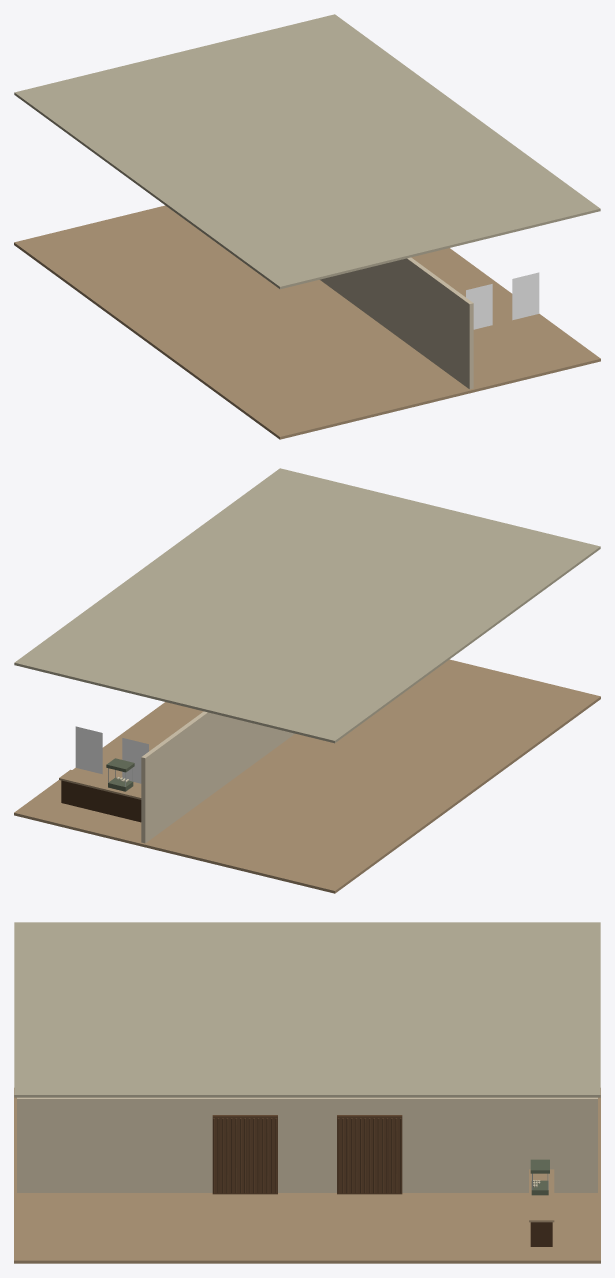
File: SM_Town_Cinema_Interior_LOD1.fbx
The picture shows the model from 3 angles, top to bottom: view 1: azimuth 30°, elevation 25°; view 2: azimuth 150°, elevation 25°; view 3: azimuth 270°, elevation 25°; orthographic projection. The views are drawn at different scales.
Visible parts, largest first — view 1: SM_Town_Cinema_Interior_LOD1; view 2: SM_Town_Cinema_Interior_LOD1; view 3: SM_Town_Cinema_Interior_LOD1.
Part boxes in pixels (x1,y1,x2,y2): SM_Town_Cinema_Interior_LOD1: (14,14,600,439); SM_Town_Cinema_Interior_LOD1: (14,468,600,893); SM_Town_Cinema_Interior_LOD1: (14,922,600,1263).
Size of the model in its own units: 13.8 by 19.8 by 6.27.
